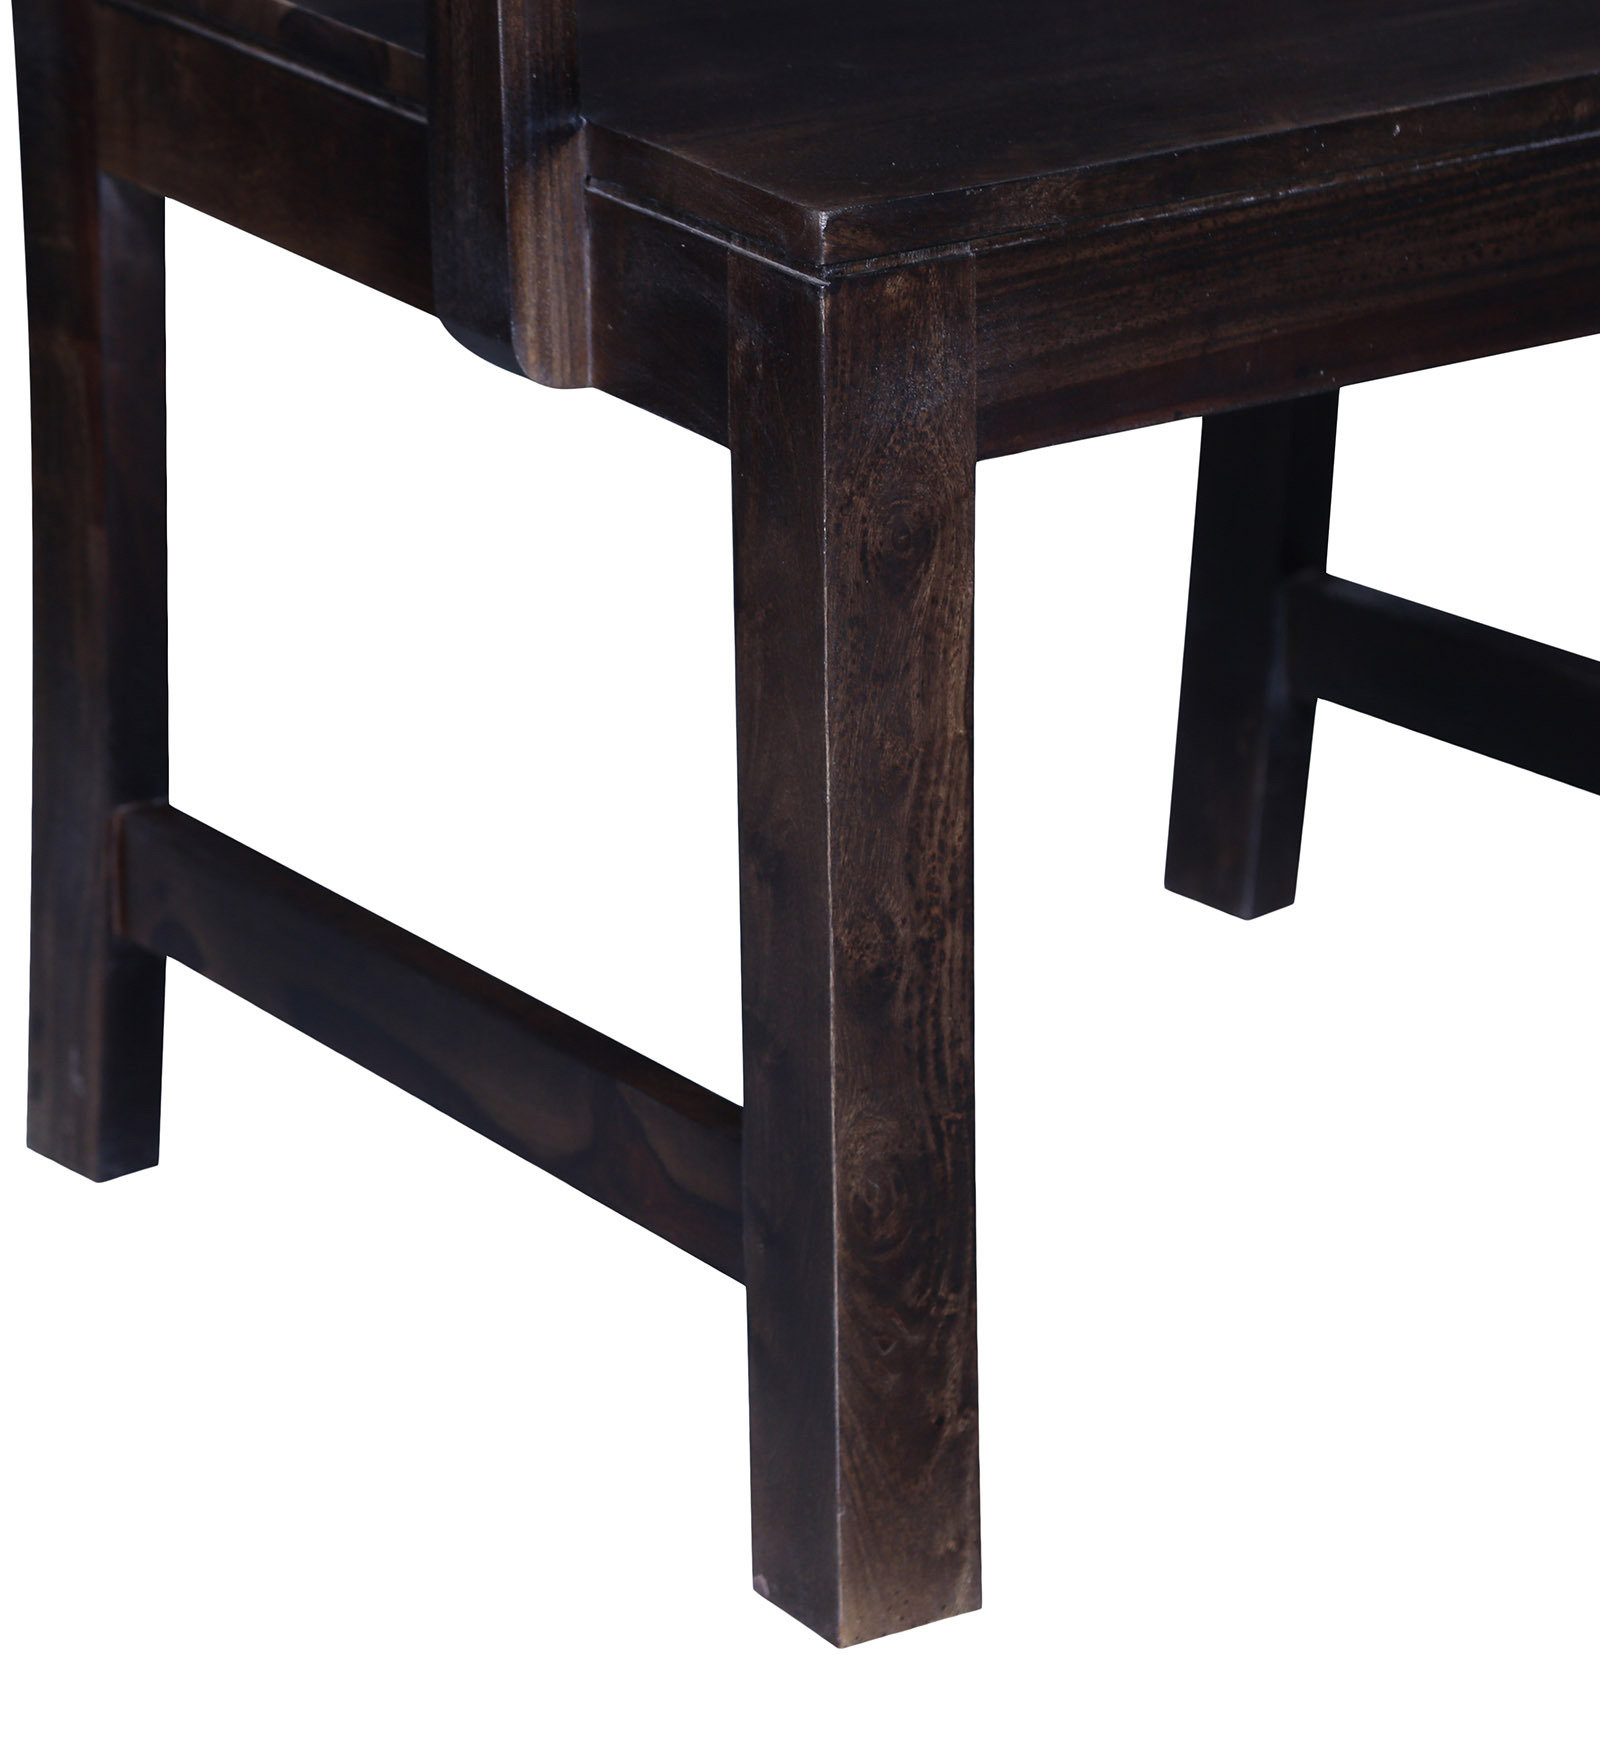Segur Arm Chair in Warm Chestnut Finish by Woodsworth: (21, 26, 1600, 1726)
